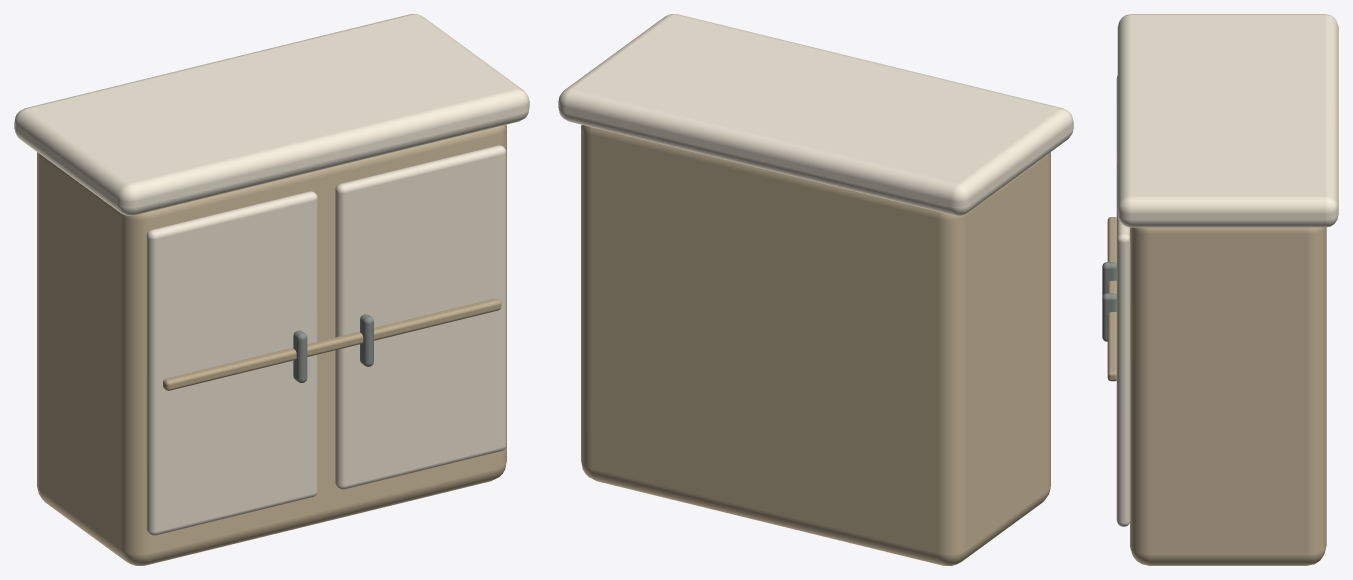
File: storage-cabinet.glb
3 views of the same model, side by side, from view 1: azimuth 30°, elevation 25°; view 2: azimuth 150°, elevation 25°; view 3: azimuth 270°, elevation 25° (orthographic). The views are drawn at different scales.
Parts seen in each view (by area): view 1: storage-cabinet; view 2: storage-cabinet; view 3: storage-cabinet.
Boxes of the visible parts, left/top/right/bottom form: storage-cabinet: left=14, top=14, right=529, bottom=565; storage-cabinet: left=558, top=14, right=1073, bottom=565; storage-cabinet: left=1102, top=14, right=1338, bottom=565.
Bounding box in the file's own units: 1.48 × 1.36 × 0.77.
